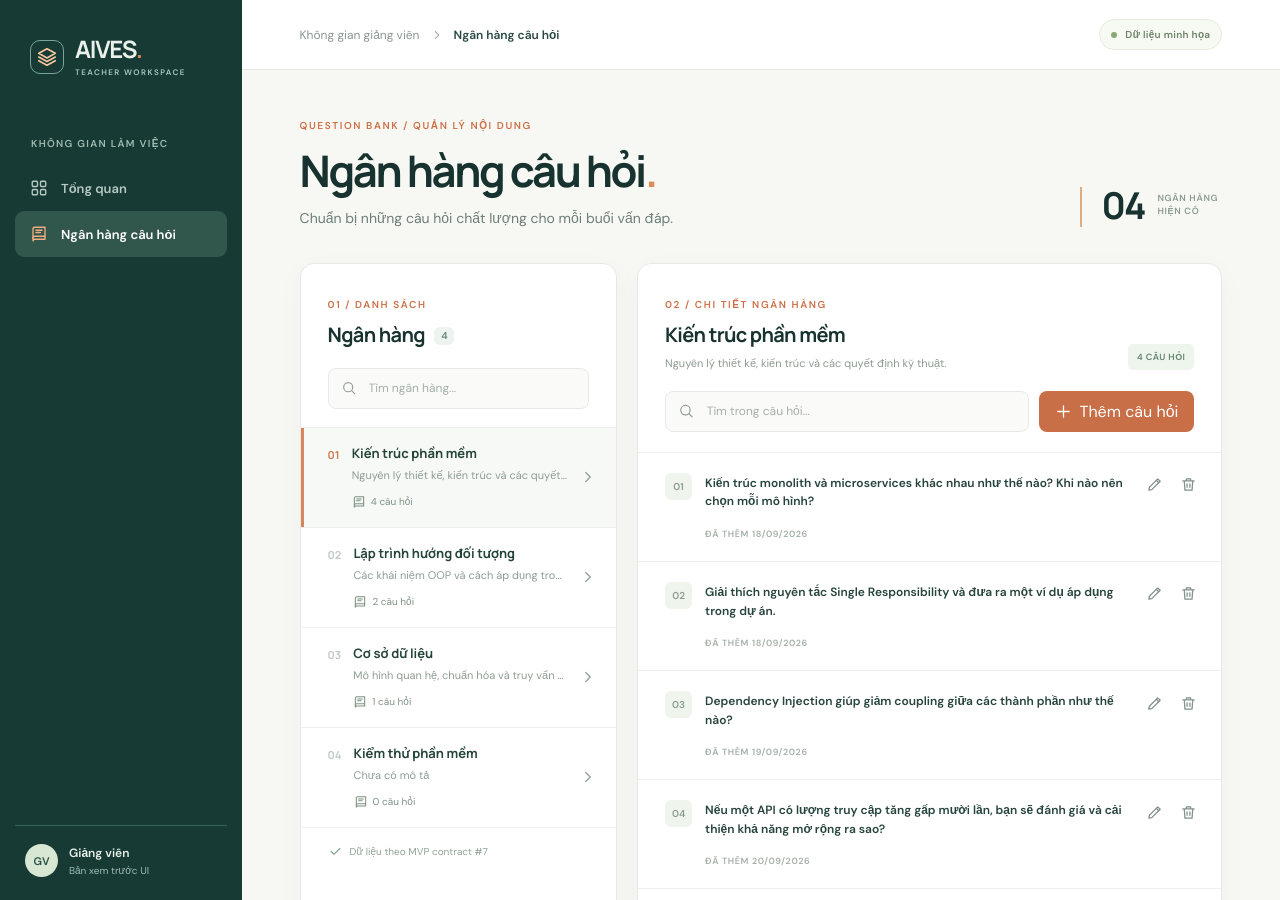
Test: QuestionBankWorkspace › filters the question list
Type "Dependency Injection" into the field named "Tìm câu hỏi" at (861, 411), box top-left (705, 402), bottom-right (1016, 420)
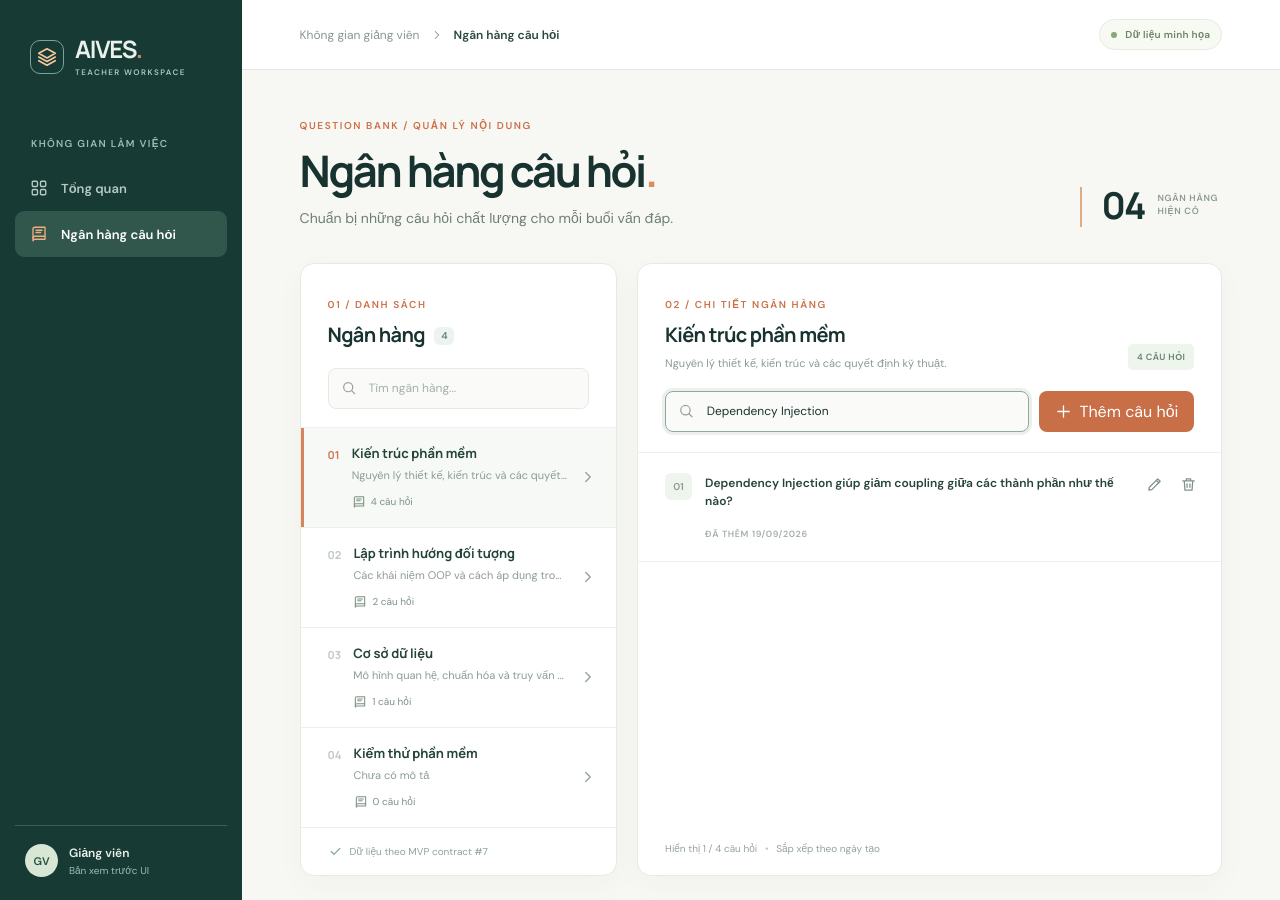
Expected: the text "Dependency Injection giúp giảm coupling" is shown, top-left (705, 475), bottom-right (1114, 509)
Expected: the text "Kiến trúc monolith và microservices" is gone
